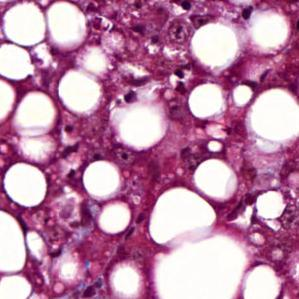steatosis: (4, 163, 48, 206), (0, 210, 26, 272)
